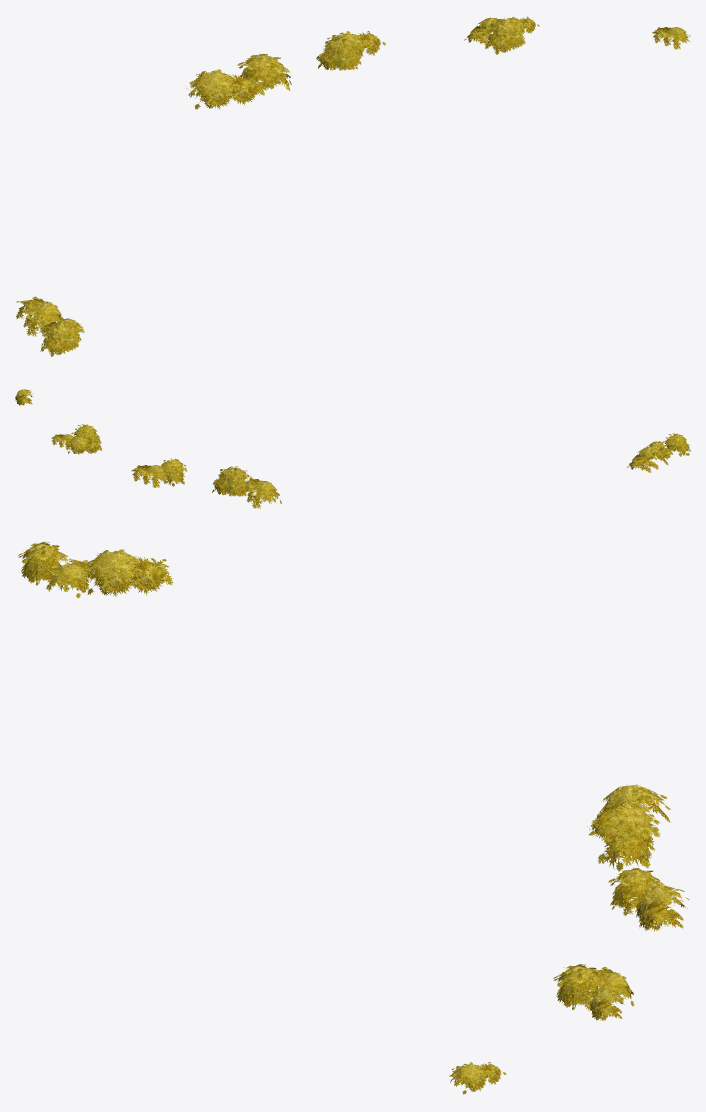
The model's file is guanmu04.fbx.
3 renders of one model, top to bottom at view 1: azimuth 30°, elevation 25°; view 2: azimuth 150°, elevation 25°; view 3: azimuth 270°, elevation 25°, orthographic. The views are drawn at different scales.
Visible parts, largest first — view 1: guanmu04; view 2: guanmu04; view 3: guanmu04.
Part boxes in pixels (x1,y1,x2,y2): guanmu04: [16, 16, 690, 356]; guanmu04: [15, 389, 690, 508]; guanmu04: [18, 541, 689, 1094].
Bounding box in the file's own units: 6542 × 339 × 3518.
Materials: 1 (1 with a texture image).
